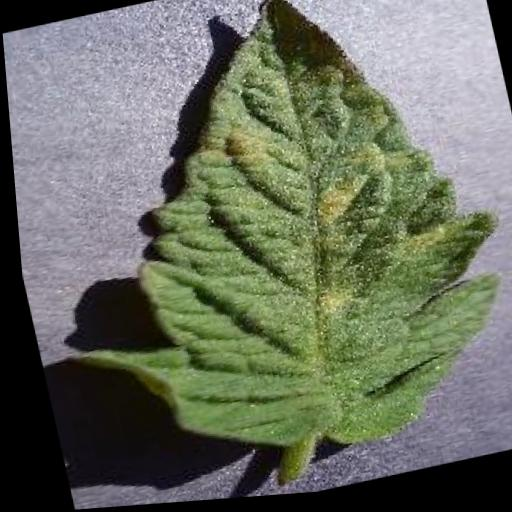Leaf Mold: (10, 0, 512, 506)
